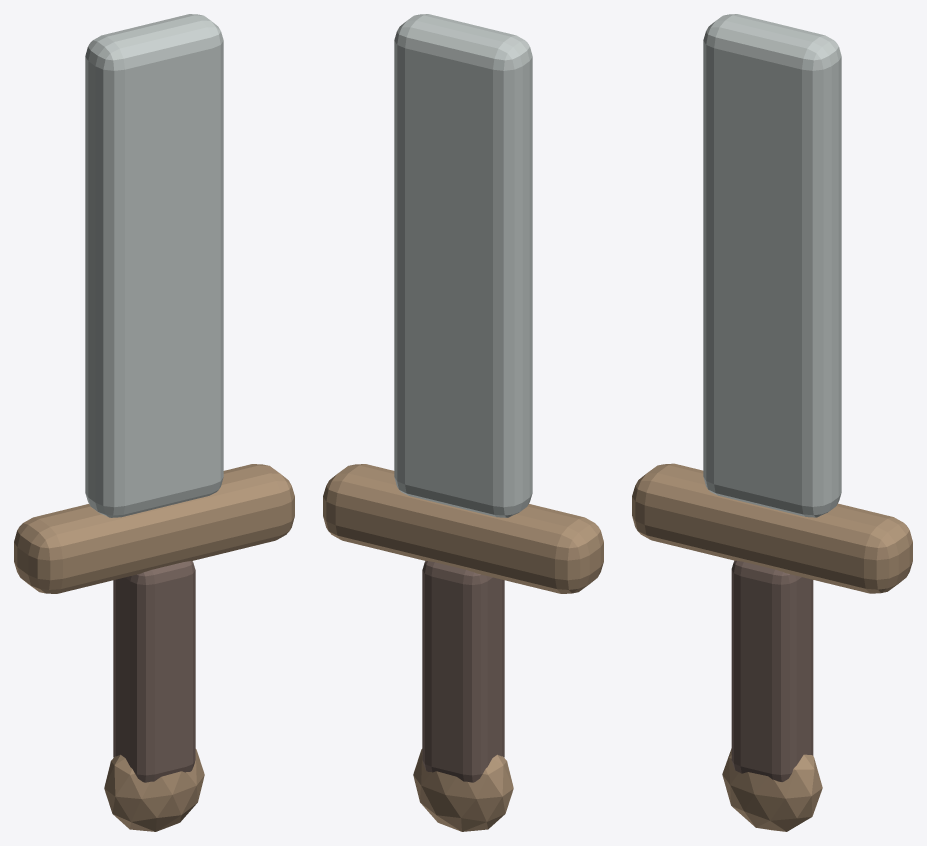
The model's file is bronze-saber.glb.
3 renders of one model, left to right at view 1: azimuth 30°, elevation 25°; view 2: azimuth 150°, elevation 25°; view 3: azimuth 330°, elevation 25°, orthographic.
Visible parts, largest first — view 1: WeaponBlade, WeaponGuard, WeaponGrip, WeaponPommel; view 2: WeaponBlade, WeaponGuard, WeaponGrip, WeaponPommel; view 3: WeaponBlade, WeaponGuard, WeaponGrip, WeaponPommel.
Part boxes in pixels (x1,y1,x2,y2): WeaponBlade: (85,14,223,517); WeaponGuard: (14,464,294,593); WeaponGrip: (113,561,195,782); WeaponPommel: (104,749,204,831); WeaponBlade: (394,14,532,517); WeaponGuard: (323,464,603,593); WeaponGrip: (422,561,504,782); WeaponPommel: (413,749,513,831); WeaponBlade: (703,14,841,517); WeaponGuard: (632,463,912,593); WeaponGrip: (731,560,813,781); WeaponPommel: (722,748,822,831).
Size of the model in its own units: 0.84 by 2.45 by 0.2.
